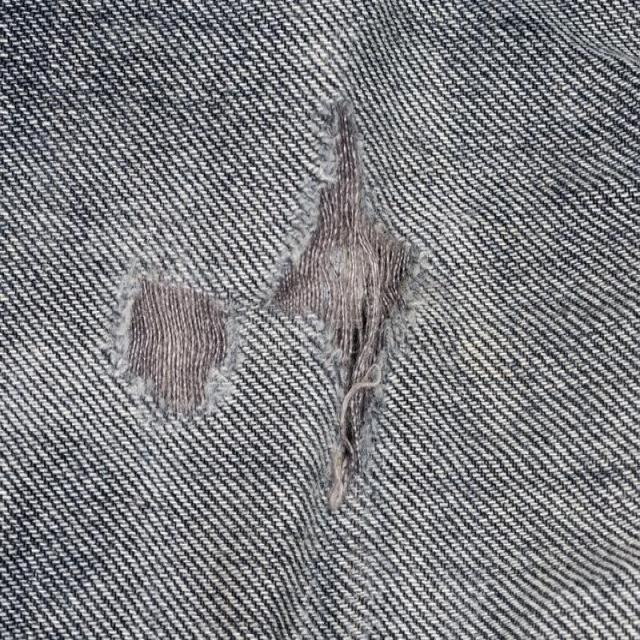Hole: (276, 100, 411, 510), (128, 282, 224, 414)
